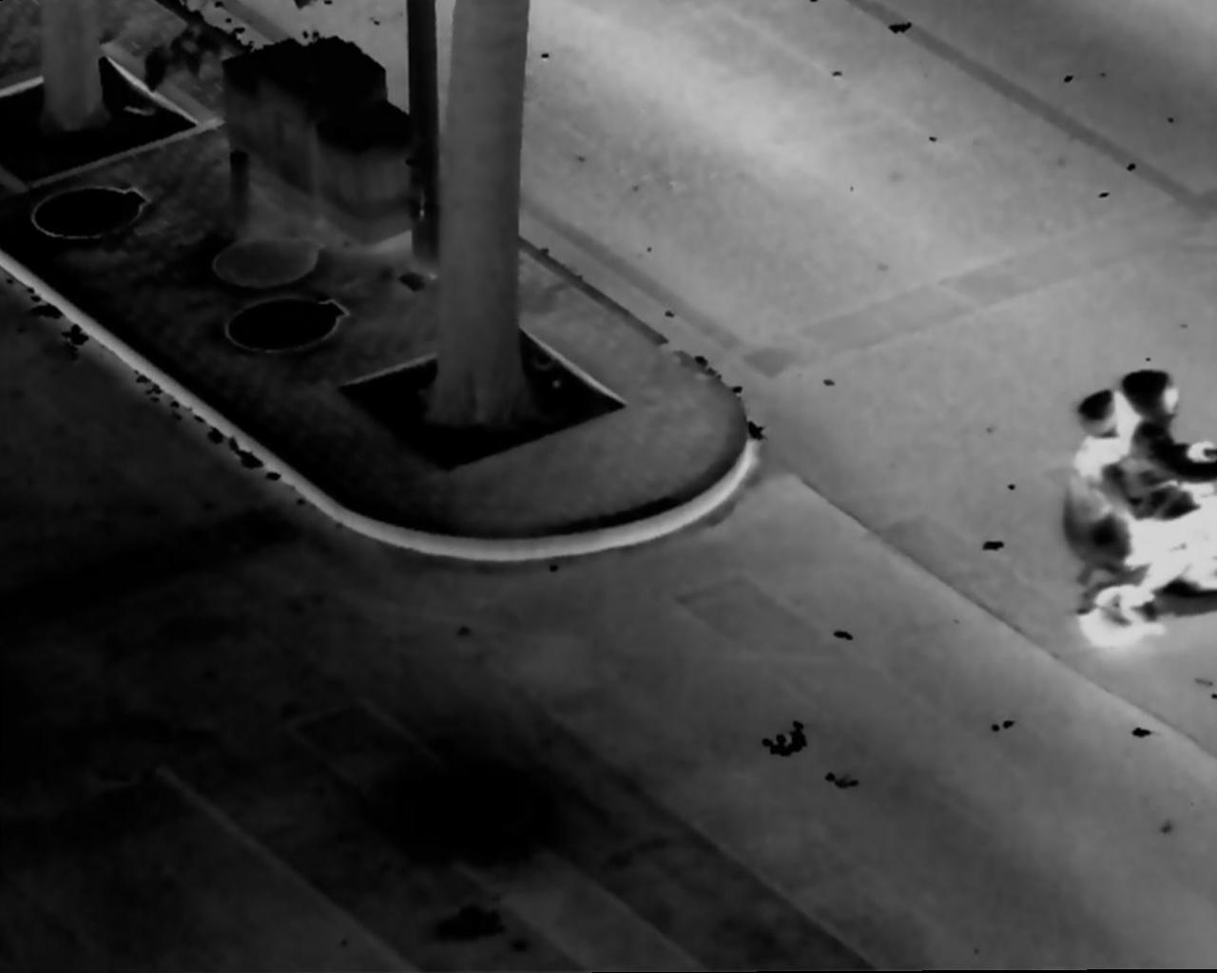person: (1126, 370, 1215, 615), (1059, 389, 1135, 615)
